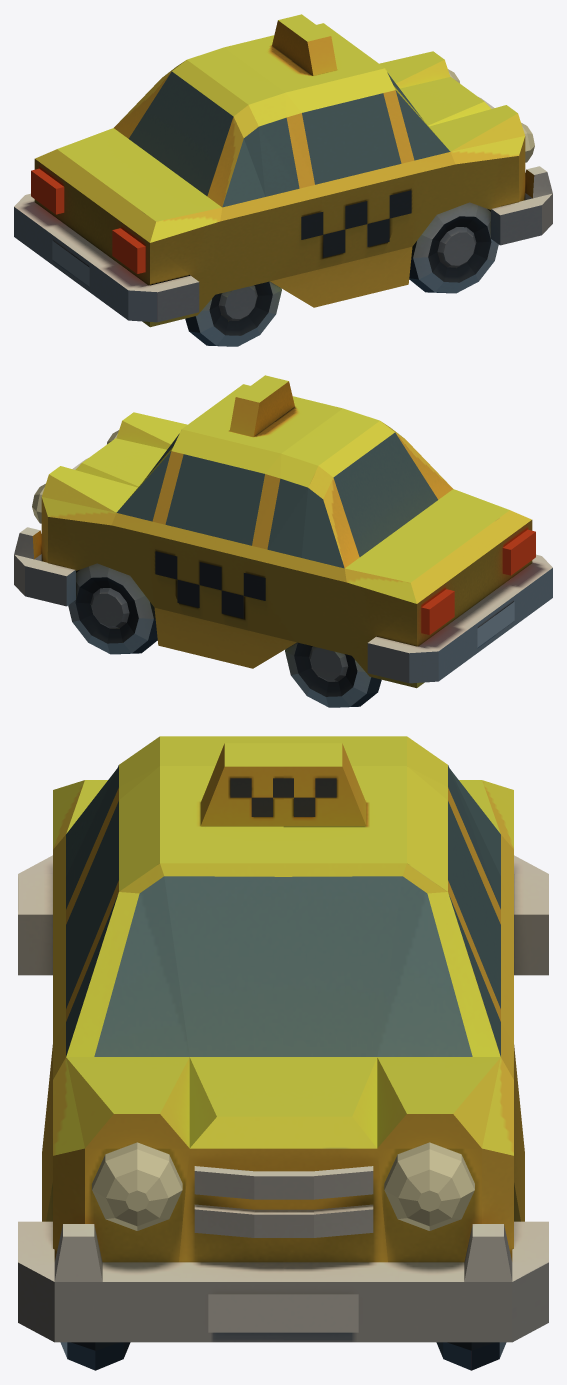
Rendered from PUSHILIN_Taxi.gltf.
3 views of the same model, one above another, from view 1: azimuth 30°, elevation 25°; view 2: azimuth 150°, elevation 25°; view 3: azimuth 270°, elevation 25° (orthographic). The views are drawn at different scales.
Parts seen in each view (by area): view 1: node-0; view 2: node-0; view 3: node-0.
Boxes of the visible parts, bbox=[...] form: node-0: bbox=[14, 14, 552, 346]; node-0: bbox=[14, 375, 552, 707]; node-0: bbox=[18, 736, 548, 1370].
Size of the model in its own units: 2.35 by 1.34 by 1.27.
Materials: 1 (1 with a texture image).
